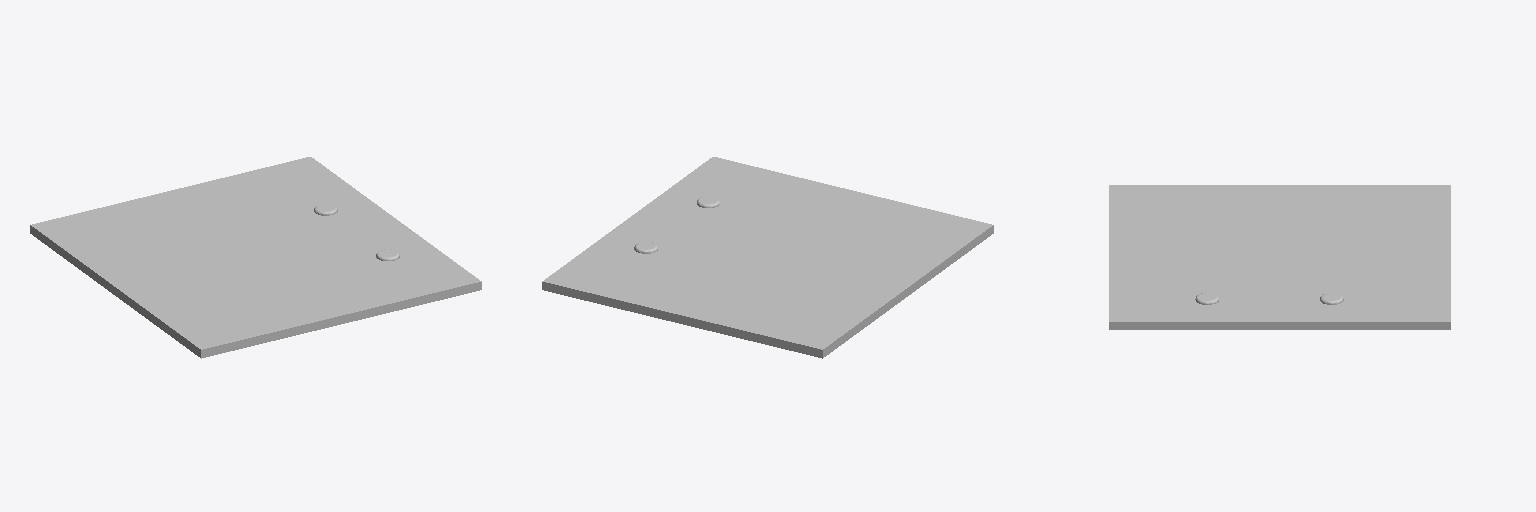
Rendered from led.obj.
3 renders of one model, left to right at view 1: azimuth 30°, elevation 25°; view 2: azimuth 150°, elevation 25°; view 3: azimuth 270°, elevation 25°, orthographic.
Parts seen in each view (by area): view 1: Object.1, Object.3, Object.2; view 2: Object.1, Object.3, Object.2; view 3: Object.1, Object.3, Object.2.
Part boxes in pixels (x1,y1,x2,y2): Object.1: (31, 157, 481, 358); Object.3: (30, 204, 439, 357); Object.2: (72, 189, 481, 337); Object.1: (542, 157, 992, 349); Object.3: (634, 182, 993, 357); Object.2: (634, 188, 951, 358); Object.1: (1109, 185, 1450, 321); Object.3: (1109, 293, 1450, 329); Object.2: (1109, 189, 1450, 303).
Bounding box in the file's own units: 95 × 3.82 × 100.